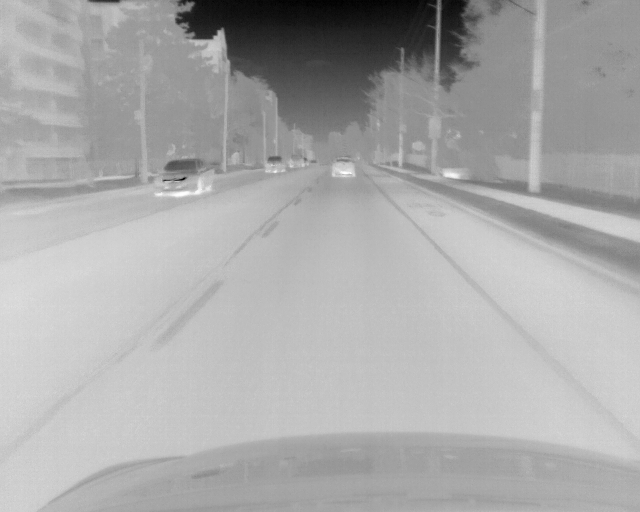car: (153, 157, 216, 197), (330, 157, 356, 179), (264, 156, 286, 174), (288, 155, 306, 169)
